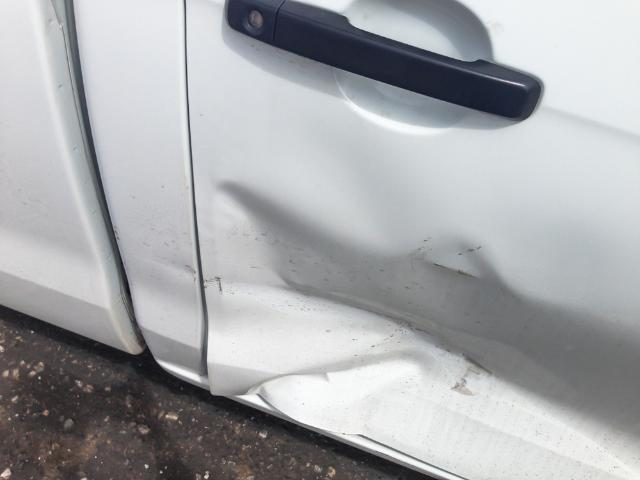dent: (212, 178, 635, 439)
